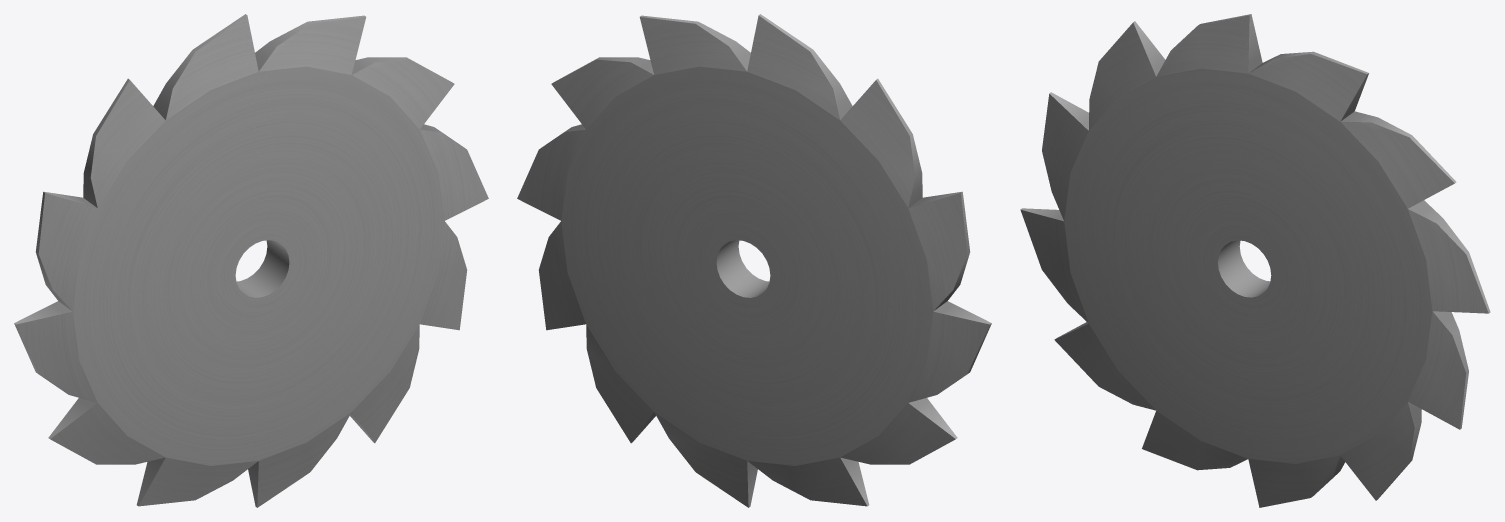
File: SawBlade.FBX
3 renders of one model, left to right at view 1: azimuth 30°, elevation 25°; view 2: azimuth 150°, elevation 25°; view 3: azimuth 330°, elevation 25°, orthographic.
Parts seen in each view (by area): view 1: SawBlade; view 2: SawBlade; view 3: SawBlade.
Part boxes in pixels (<box>): SawBlade: <box>14,14,488,507</box>; SawBlade: <box>517,14,991,507</box>; SawBlade: <box>1020,14,1490,507</box>.
Size of the model in its own units: 91.97 by 91.97 by 7.44.
